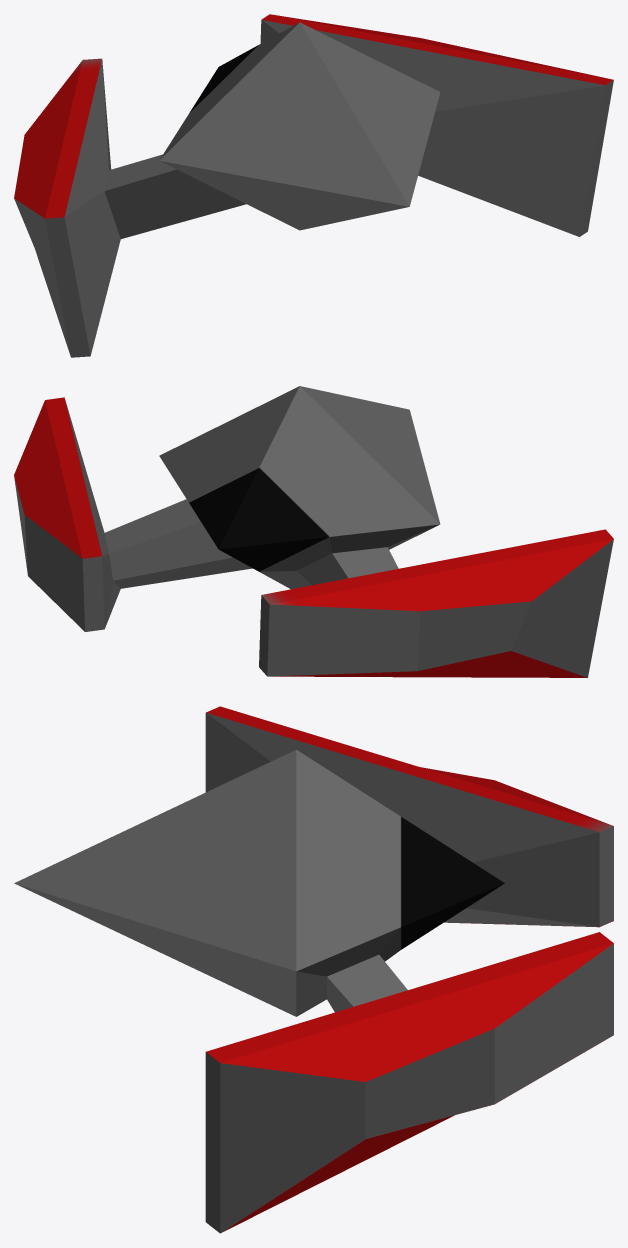
Rendered from AlienImpeder.glb.
3 views of the same model, one above another, from view 1: azimuth 30°, elevation 25°; view 2: azimuth 150°, elevation 25°; view 3: azimuth 270°, elevation 25° (orthographic). The views are drawn at different scales.
Visible parts, largest first — view 1: Cube; view 2: Cube; view 3: Cube.
Boxes of the visible parts, x1,y1,x2,y2 form: Cube: (14,14,613,357); Cube: (14,386,613,677); Cube: (14,706,613,1233).
Bounding box in the file's own units: 5.72 × 2.41 × 4.07.
1 material, 1 textured.
